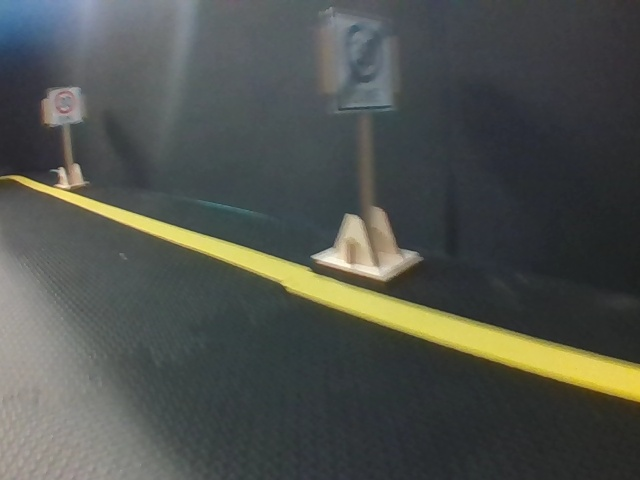30: (47, 86, 83, 125)
no30: (331, 12, 397, 110)
